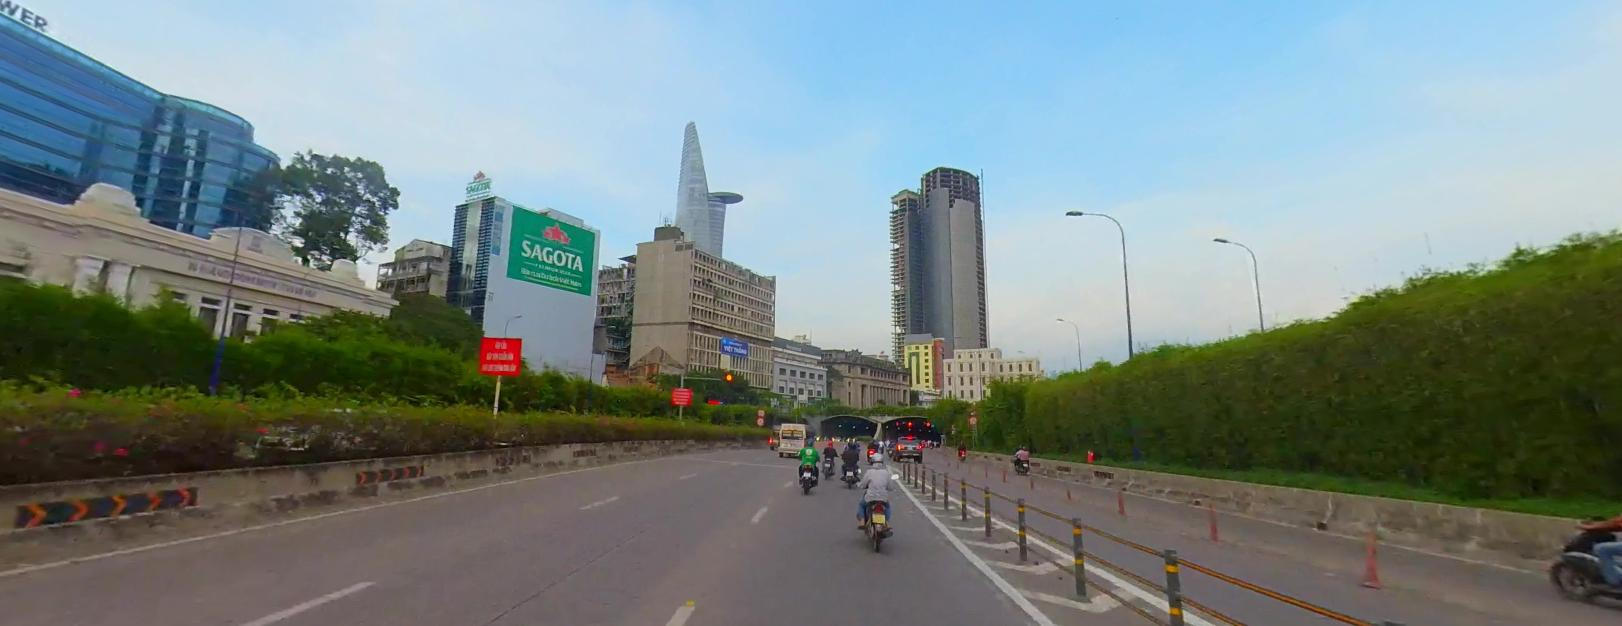Cam con lai: (968, 414, 977, 423), (755, 416, 763, 425), (757, 406, 765, 415)
